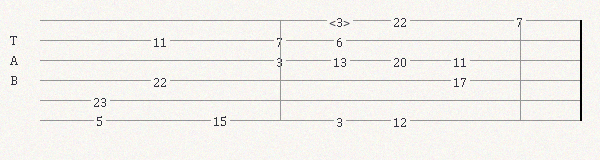11: (153, 34, 171, 47), (453, 54, 471, 67)
12: (393, 114, 411, 127)
13: (333, 54, 351, 67)
15: (213, 113, 231, 127)
17: (453, 74, 471, 87)
20: (393, 54, 411, 67)
22: (153, 74, 171, 87), (393, 14, 411, 27)
23: (93, 94, 111, 107)
3: (276, 54, 287, 67), (336, 114, 347, 127)
5: (96, 113, 107, 127)
6: (336, 34, 347, 47)
7: (276, 34, 287, 47), (516, 14, 527, 27)
harmonic: (329, 14, 354, 27)
